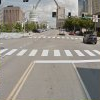crosswalk: (0, 47, 98, 58), (28, 35, 80, 40)
